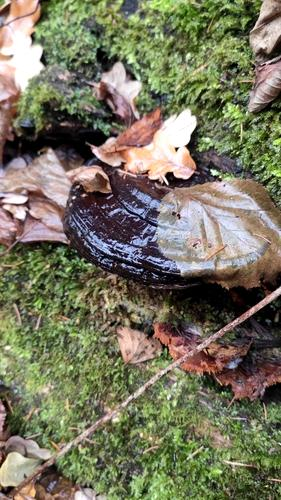Ganoderma - Fruit Body: (66, 141, 265, 288)
